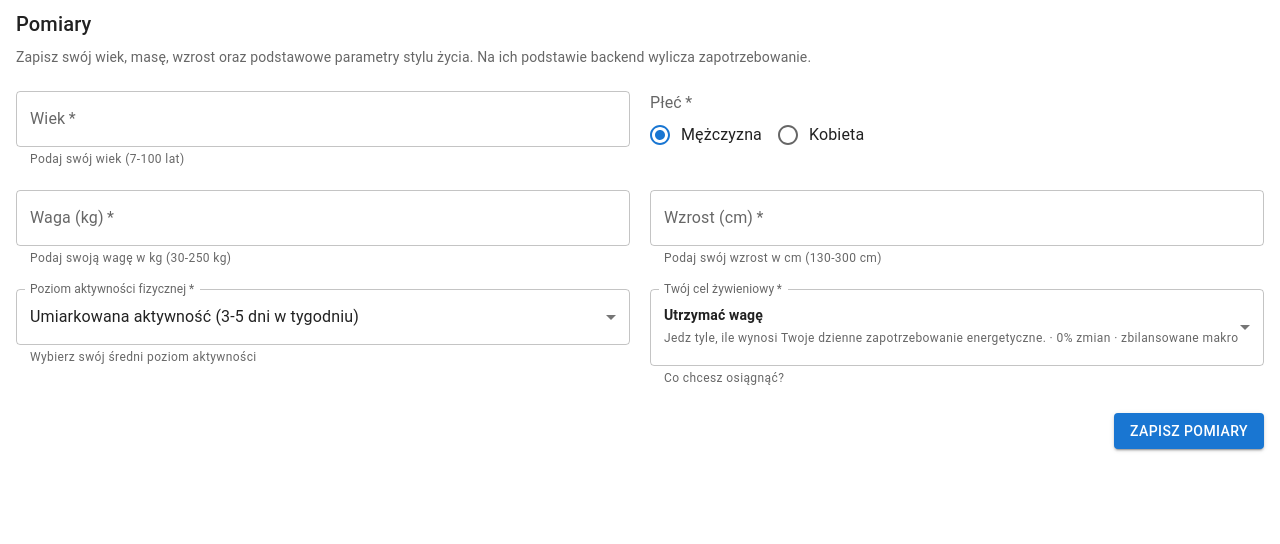
UserProfilePage › blocks saving when measurements are invalid
Click the button "Zapisz pomiary" at coordinates (1189, 431), box [1114,413,1264,449]
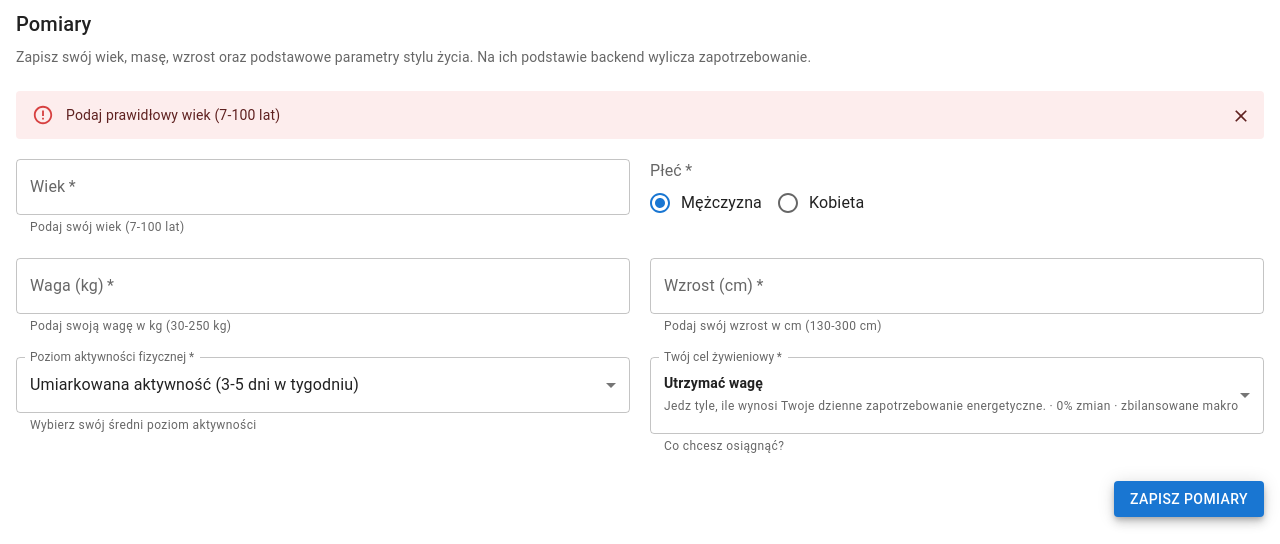
Result: the text "Podaj prawidłowy wiek (7-100 lat)" is shown at [66,107,280,123]
